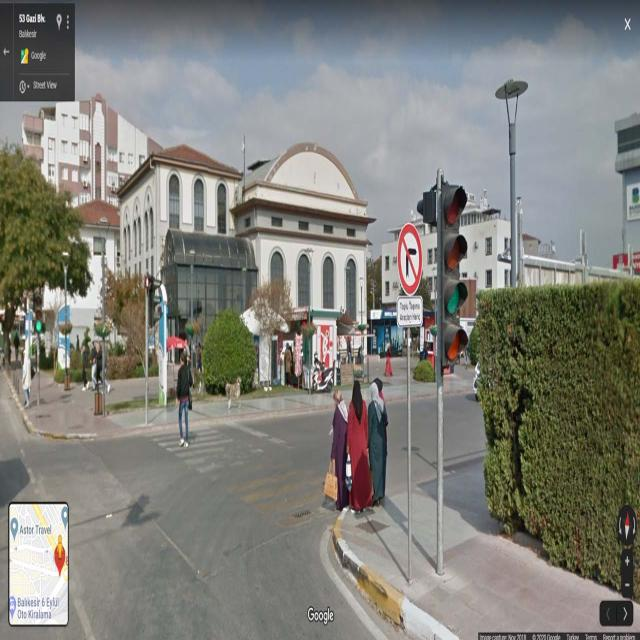sagadonulmez: (397, 222, 421, 292)
